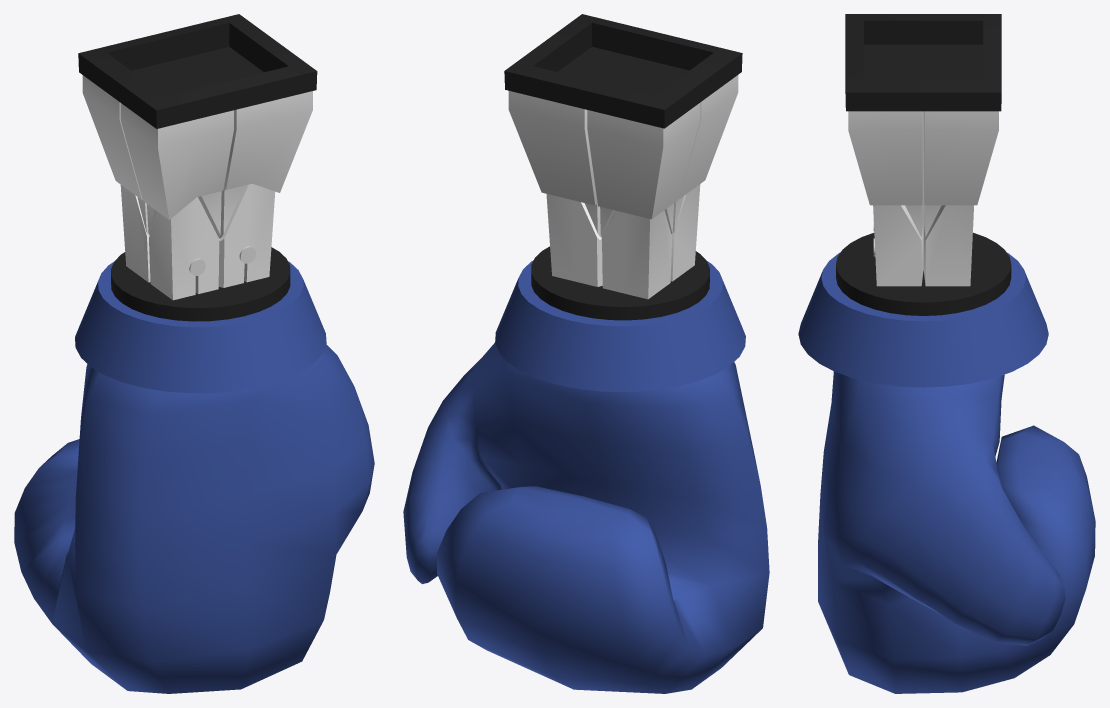
Rendered from Arm_R.fbx.
The picture shows the model from 3 angles, left to right: view 1: azimuth 30°, elevation 25°; view 2: azimuth 150°, elevation 25°; view 3: azimuth 270°, elevation 25°; orthographic projection.
Visible parts, largest first — view 1: Glove R, Arm R.004, Arm R.001, Arm R.002, Arm R, Arm R.003; view 2: Glove R, Arm R.004, Arm R.001, Arm R.002, Arm R, Arm R.003; view 3: Glove R, Arm R.004, Arm R.002, Arm R.001, Arm R, Arm R.003.
Part boxes in pixels (x1,y1,x2,y2): Glove R: [14, 344, 374, 693]; Arm R.004: [75, 261, 326, 393]; Arm R.001: [82, 75, 312, 219]; Arm R.002: [78, 14, 317, 128]; Arm R: [120, 183, 275, 300]; Arm R.003: [111, 247, 290, 321]; Glove R: [403, 343, 769, 693]; Arm R.004: [495, 260, 745, 391]; Arm R.001: [508, 75, 738, 219]; Arm R.002: [504, 14, 742, 128]; Arm R: [546, 184, 700, 299]; Arm R.003: [531, 246, 709, 320]; Glove R: [818, 371, 1095, 693]; Arm R.004: [798, 252, 1048, 387]; Arm R.002: [845, 14, 1001, 111]; Arm R.001: [848, 111, 998, 205]; Arm R: [873, 203, 973, 286]; Arm R.003: [836, 232, 1011, 315].
Bounding box in the file's own units: 102 × 194 × 84.5.
